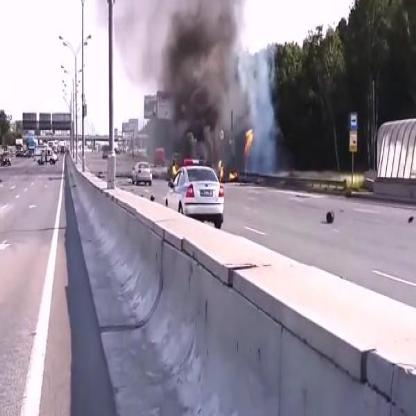fire: (242, 124, 257, 156), (228, 166, 238, 183), (218, 157, 224, 181), (170, 162, 181, 175)
